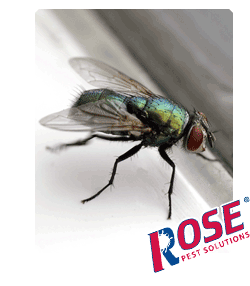house fly: (40, 56, 224, 221)
